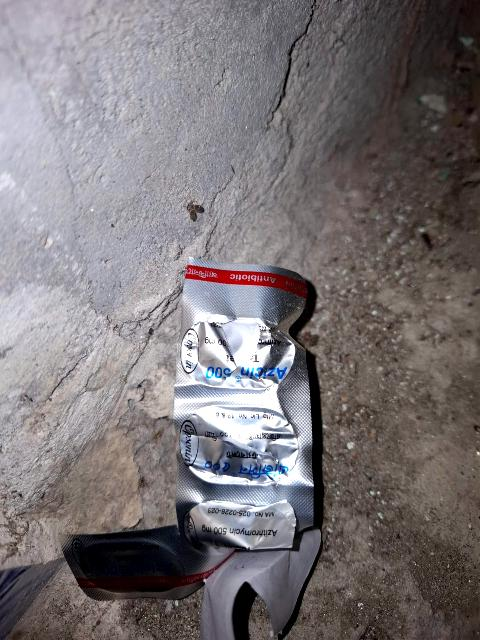medicine: (173, 260, 320, 581)
